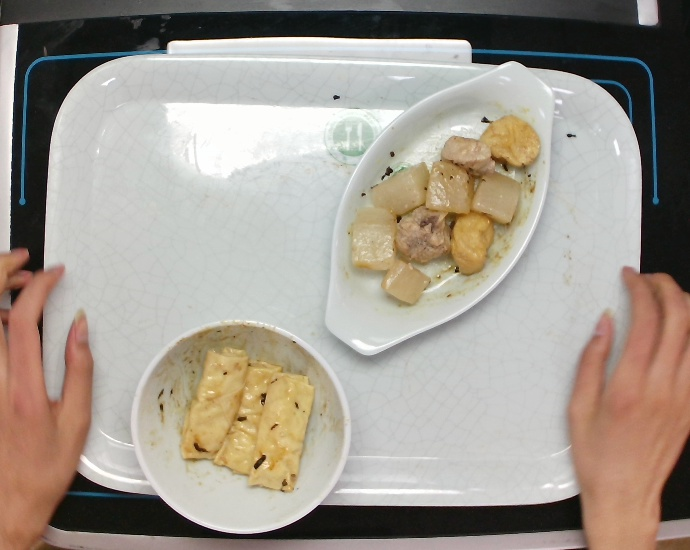JYsf-Fan_Wan: (126, 315, 356, 540)
JYsf-Yu_Pan: (320, 56, 561, 359)
